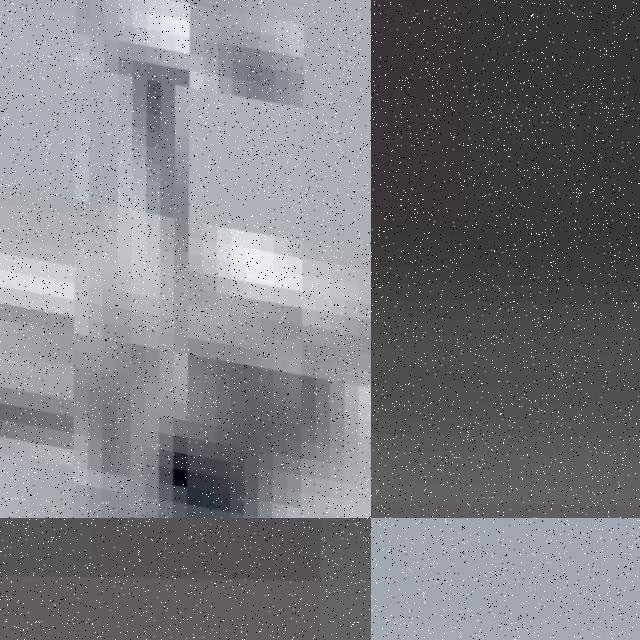drone: (0, 0, 371, 518)
